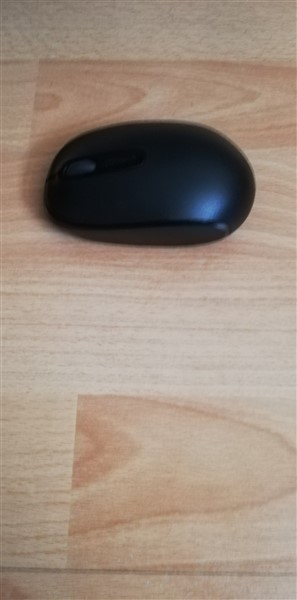mouse: (41, 111, 266, 254)
